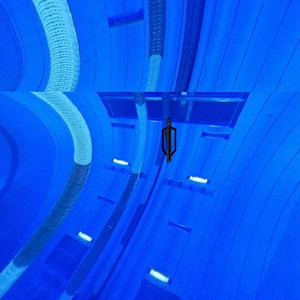submarine: (153, 118, 182, 167)
